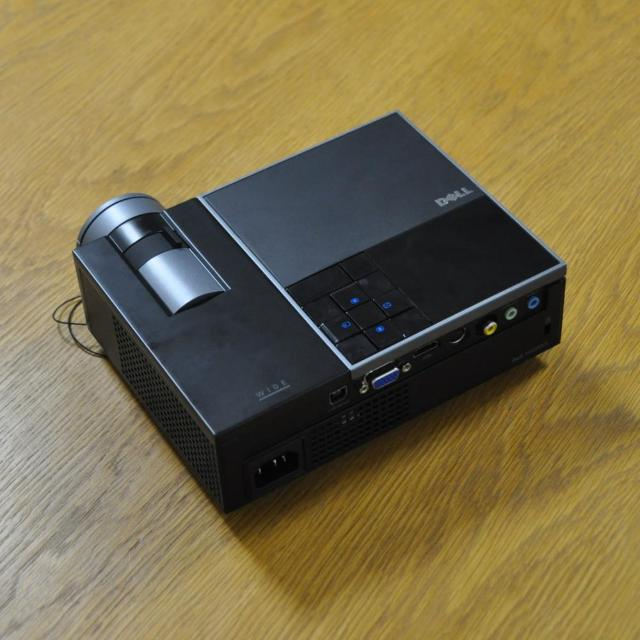Projector: (71, 110, 568, 516)
